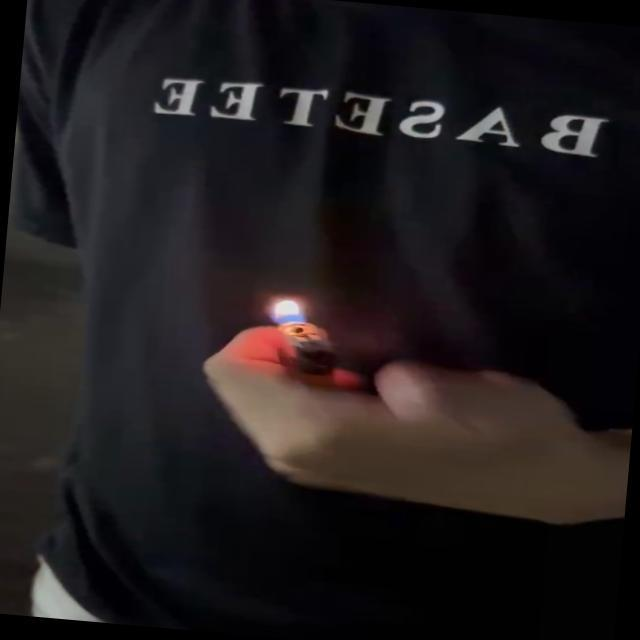Fire: (268, 297, 309, 330)
